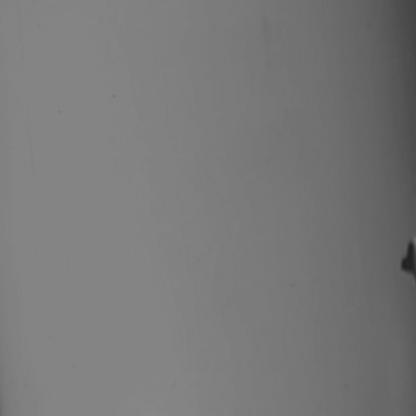kongdong: (395, 232, 416, 279)
